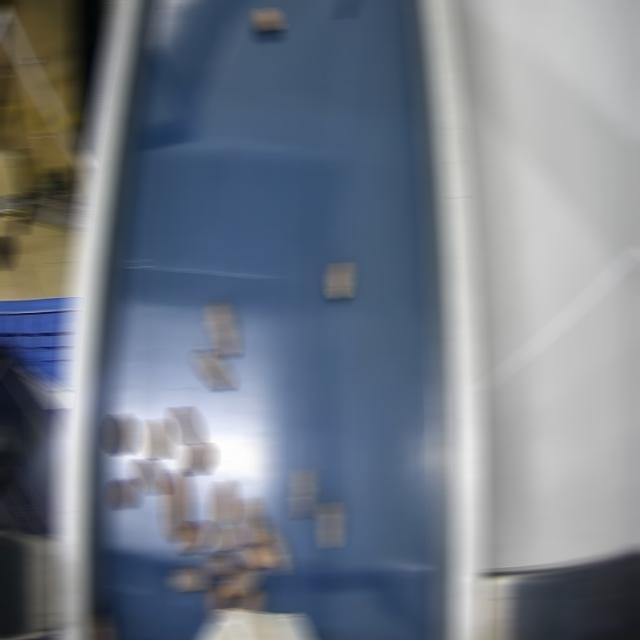Baby Potato: (164, 469, 187, 542), (208, 301, 235, 358), (259, 525, 288, 575), (197, 348, 230, 391), (223, 565, 258, 597), (241, 497, 264, 544), (179, 520, 210, 554), (136, 458, 163, 495), (319, 502, 340, 549), (293, 468, 312, 519), (108, 413, 131, 454), (173, 407, 198, 444), (212, 480, 233, 524), (171, 566, 206, 592), (241, 540, 272, 569), (183, 442, 210, 475), (147, 418, 168, 459), (206, 551, 235, 580), (209, 584, 232, 618), (112, 477, 135, 509), (330, 261, 349, 299), (212, 525, 239, 551), (91, 612, 112, 639), (256, 7, 279, 31), (238, 588, 261, 611)
